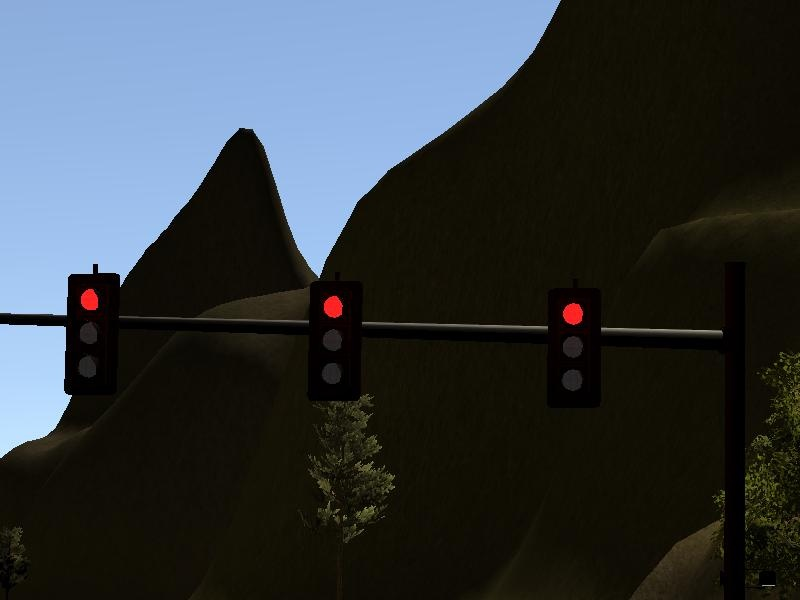RED: (62, 269, 125, 402), (544, 283, 604, 401), (306, 277, 364, 393)
